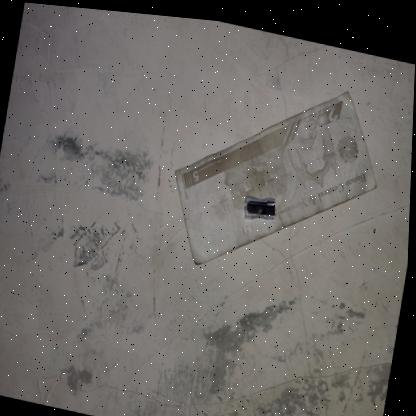five-back-vef: (161, 50, 390, 295)
